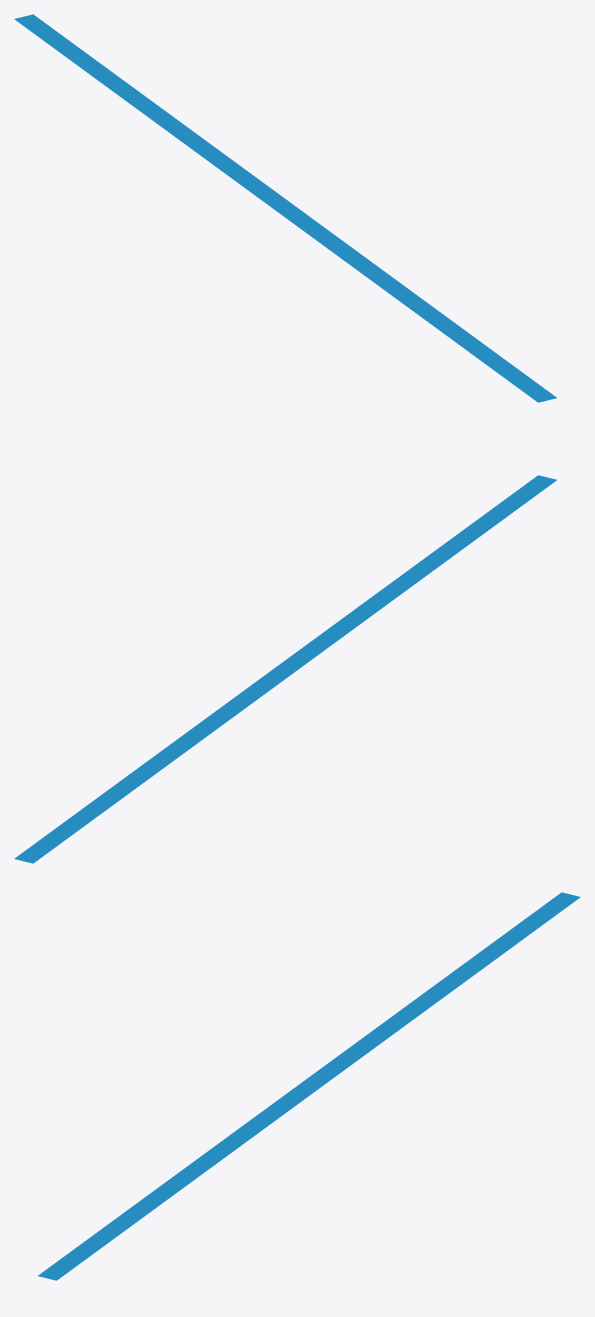
The model's file is guide.glb.
3 renders of one model, top to bottom at view 1: azimuth 30°, elevation 25°; view 2: azimuth 150°, elevation 25°; view 3: azimuth 330°, elevation 25°, orthographic.
Parts seen in each view (by area): view 1: static; view 2: static; view 3: static.
Part boxes in pixels (x1,y1,x2,y2): static: (14,14,556,402); static: (14,475,556,863); static: (38,892,580,1280).
Size of the model in its own units: 1 by 0 by 16.
